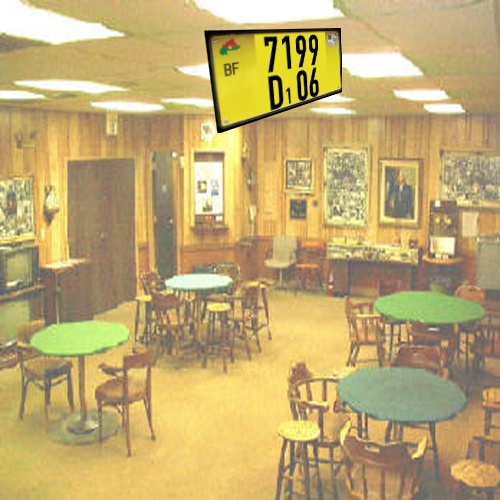plate: (197, 9, 362, 142)
